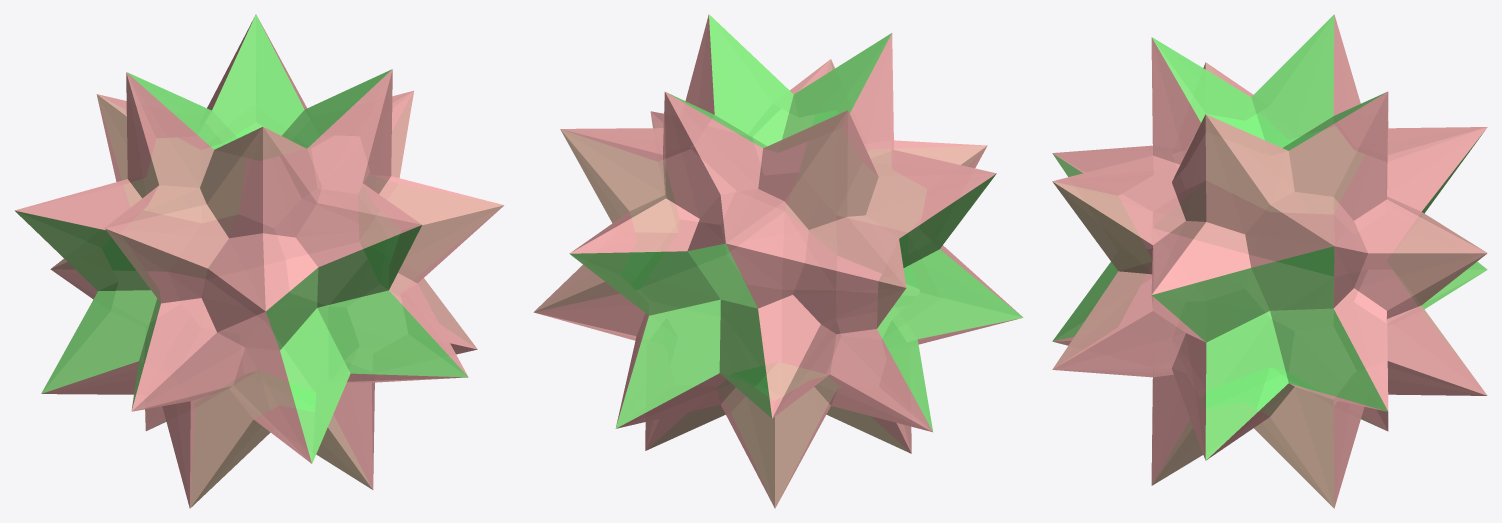
Rendered from Snub_Cube.obj.
The picture shows the model from 3 angles, left to right: view 1: azimuth 30°, elevation 25°; view 2: azimuth 150°, elevation 25°; view 3: azimuth 270°, elevation 25°; orthographic projection.
Size of the model in its own units: 2.29 by 2.29 by 2.29.
